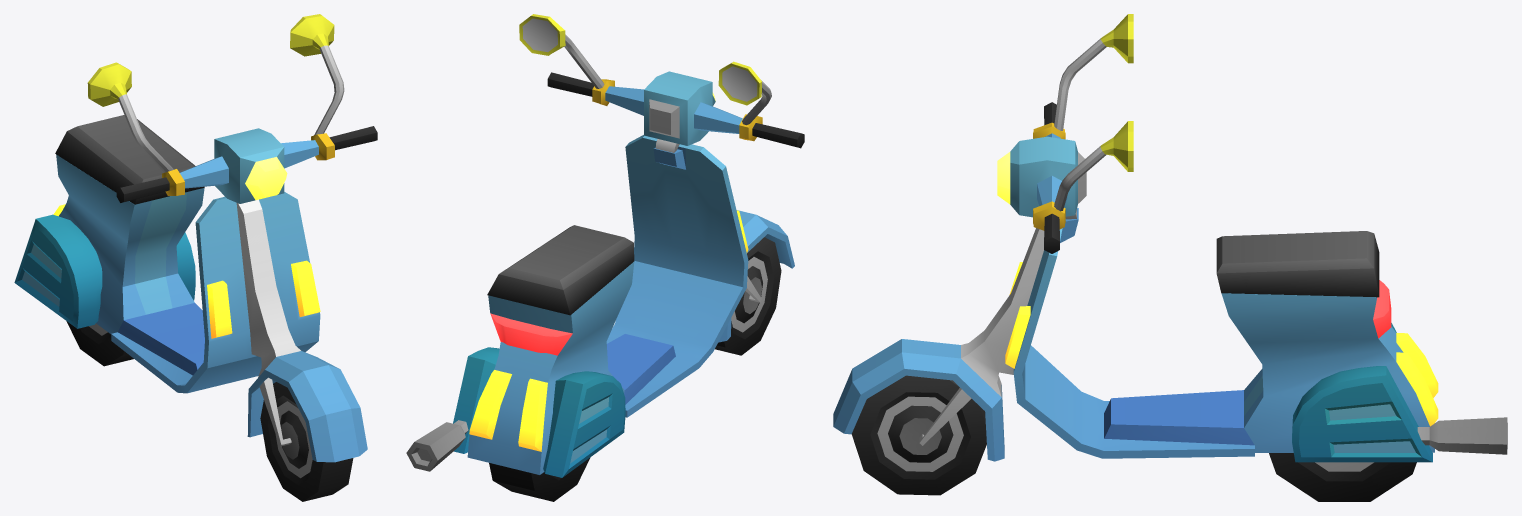
File: Bike.glb
3 renders of one model, left to right at view 1: azimuth 30°, elevation 25°; view 2: azimuth 150°, elevation 25°; view 3: azimuth 270°, elevation 25°, orthographic. The views are drawn at different scales.
Parts seen in each view (by area): view 1: Bike; view 2: Bike; view 3: Bike.
Boxes of the visible parts, <box> form: Bike: <box>14,14,377,501</box>; Bike: <box>406,14,804,501</box>; Bike: <box>833,14,1507,501</box>.
Size of the model in its own units: 5.16 by 7.46 by 10.88.
1 material, 1 textured.
